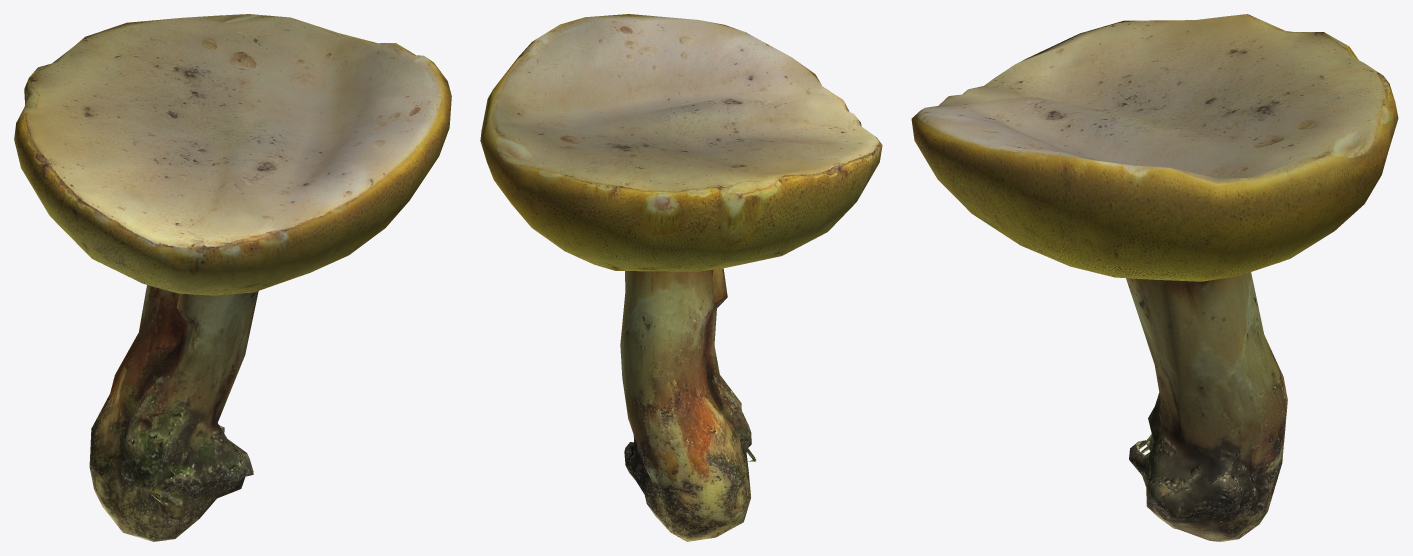
File: bolet-chair-jaune.glb
The picture shows the model from 3 angles, left to right: view 1: azimuth 30°, elevation 25°; view 2: azimuth 150°, elevation 25°; view 3: azimuth 270°, elevation 25°; orthographic projection. The views are drawn at different scales.
Parts seen in each view (by area): view 1: mushroom_01_mushroom_01_0; view 2: mushroom_01_mushroom_01_0; view 3: mushroom_01_mushroom_01_0.
Part boxes in pixels (box(x1,y1,x2,y2)): mushroom_01_mushroom_01_0: box(14, 14, 451, 541); mushroom_01_mushroom_01_0: box(480, 14, 882, 541); mushroom_01_mushroom_01_0: box(911, 14, 1398, 541).
Size of the model in its own units: 4.35 by 5.07 by 4.58.
Materials: 1 (1 with a texture image).
